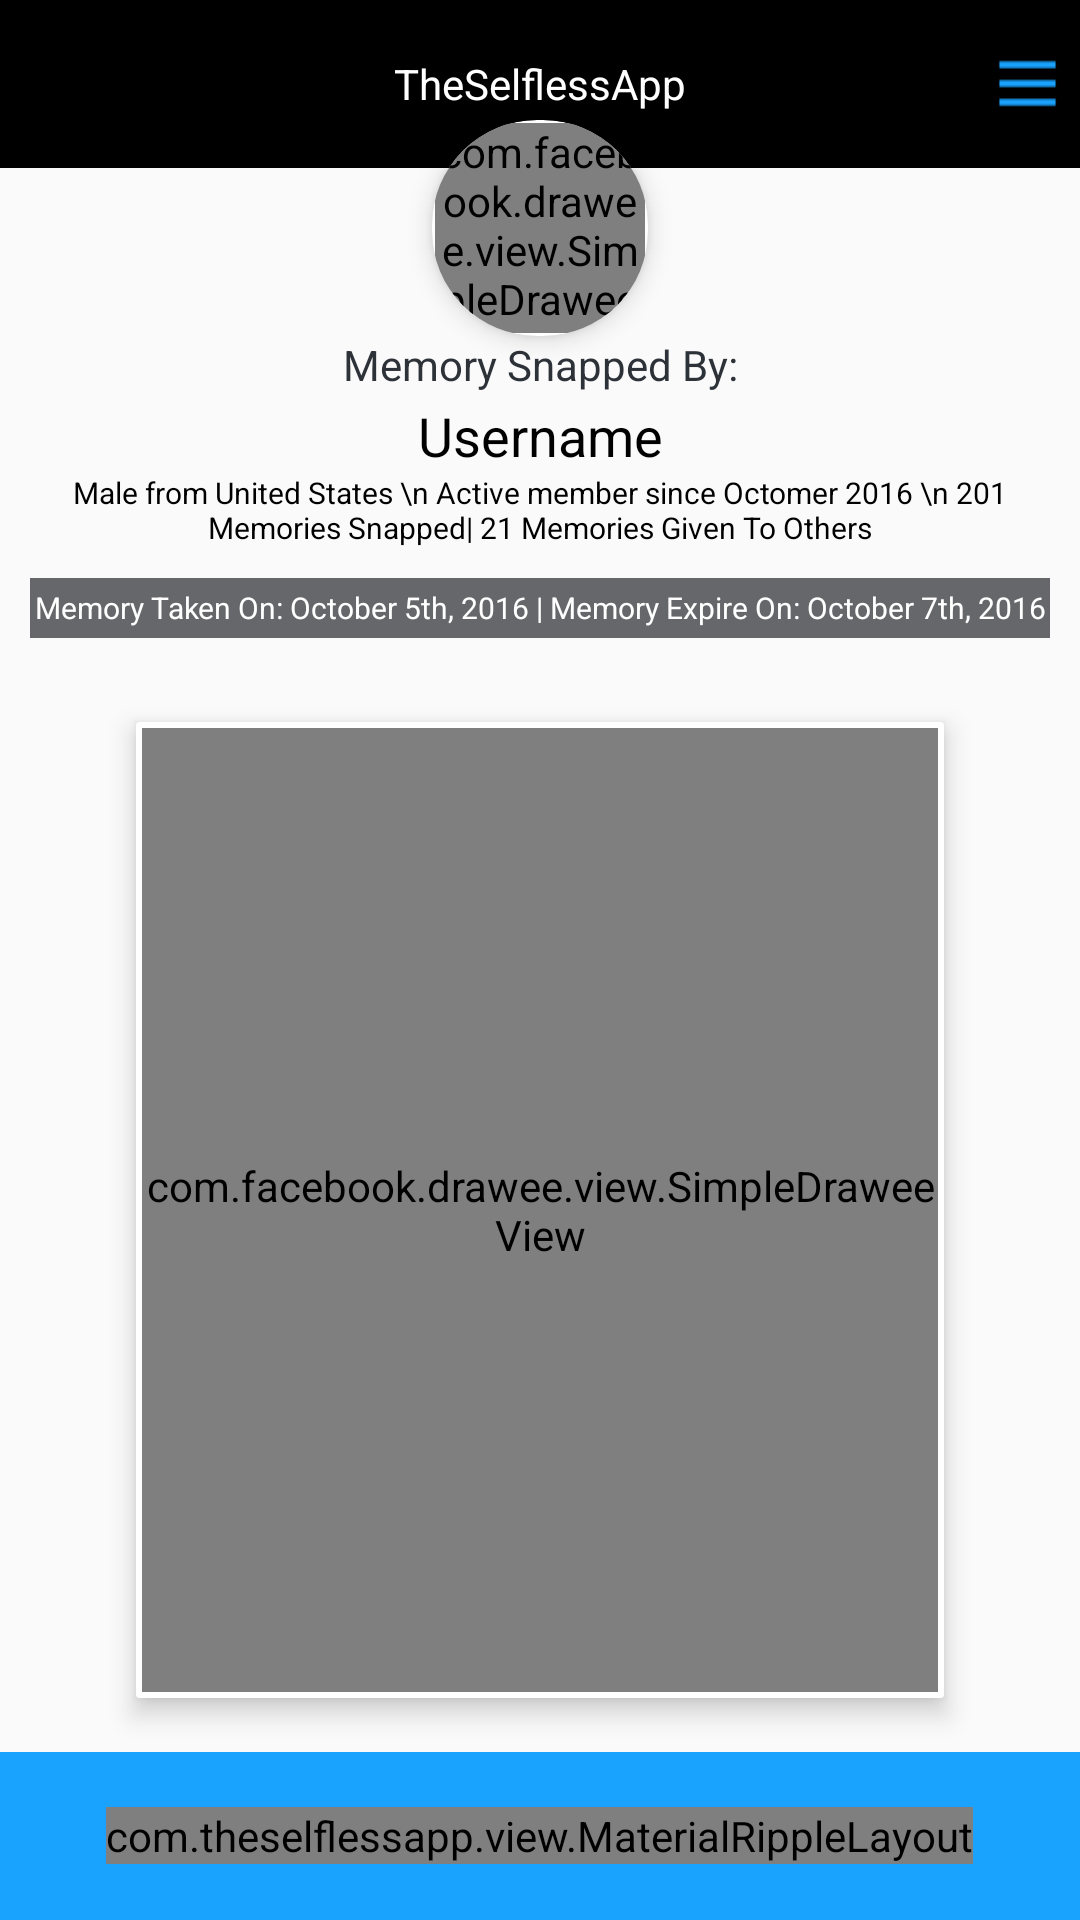

Icons on this 1080w x 1920h Android screen, each with its box as detection(x1, y1, x2, y2):
menu: detection(999, 60, 1056, 107)
